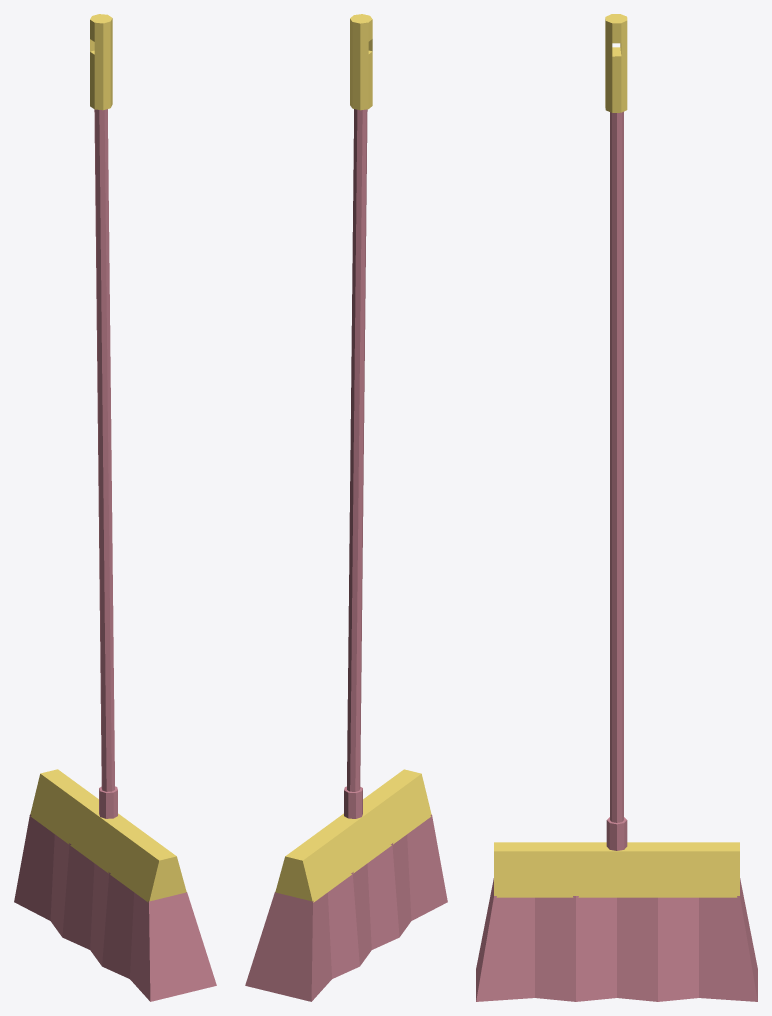
File: Laundry_cleaning_broom.fbx
The picture shows the model from 3 angles, left to right: view 1: azimuth 30°, elevation 25°; view 2: azimuth 150°, elevation 25°; view 3: azimuth 270°, elevation 25°; orthographic projection. The views are drawn at different scales.
Parts seen in each view (by area): view 1: Laundry_cleaning_broom; view 2: Laundry_cleaning_broom; view 3: Laundry_cleaning_broom.
Boxes of the visible parts, x1,y1,x2,y2 form: Laundry_cleaning_broom: (14,14,216,1001); Laundry_cleaning_broom: (245,14,447,1001); Laundry_cleaning_broom: (476,14,757,1001).
Size of the model in its own units: 14.27 by 190 by 50.68.
